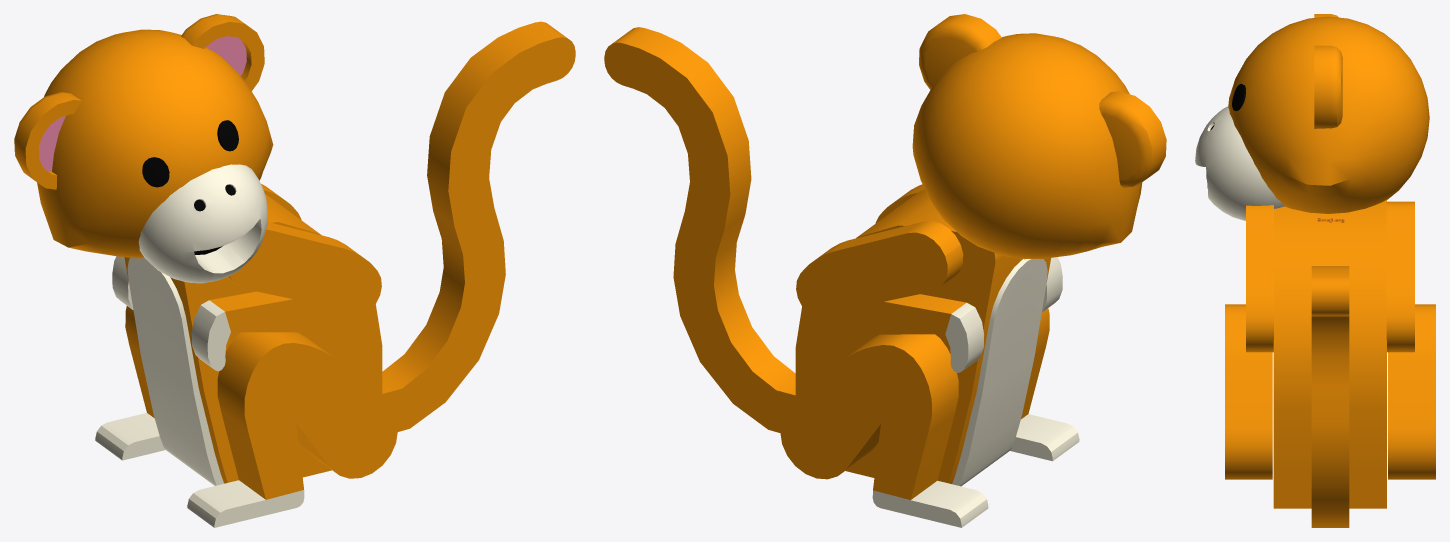
File: monkey.fbx
The picture shows the model from 3 angles, left to right: view 1: azimuth 30°, elevation 25°; view 2: azimuth 150°, elevation 25°; view 3: azimuth 270°, elevation 25°; orthographic projection. The views are drawn at different scales.
Visible parts, largest first — view 1: Cube.6142; view 2: Cube.6142; view 3: Cube.6142.
Boxes of the visible parts, x1,y1,x2,y2 form: Cube.6142: (14, 14, 575, 527); Cube.6142: (604, 14, 1166, 527); Cube.6142: (1195, 14, 1435, 527).
Bounding box in the file's own units: 235 × 185 × 101.
1 material, 1 textured.
